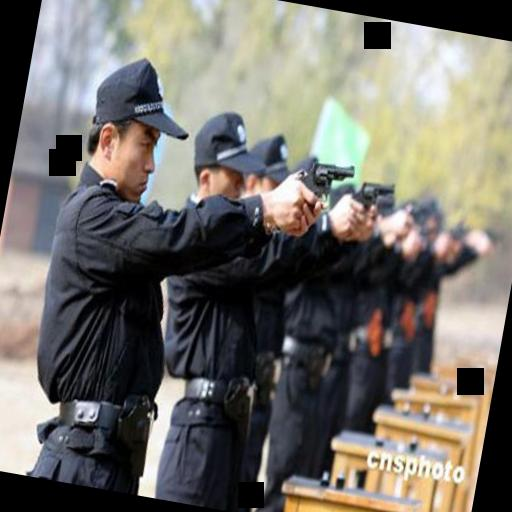Handgun: (291, 154, 353, 218), (346, 172, 394, 216)
